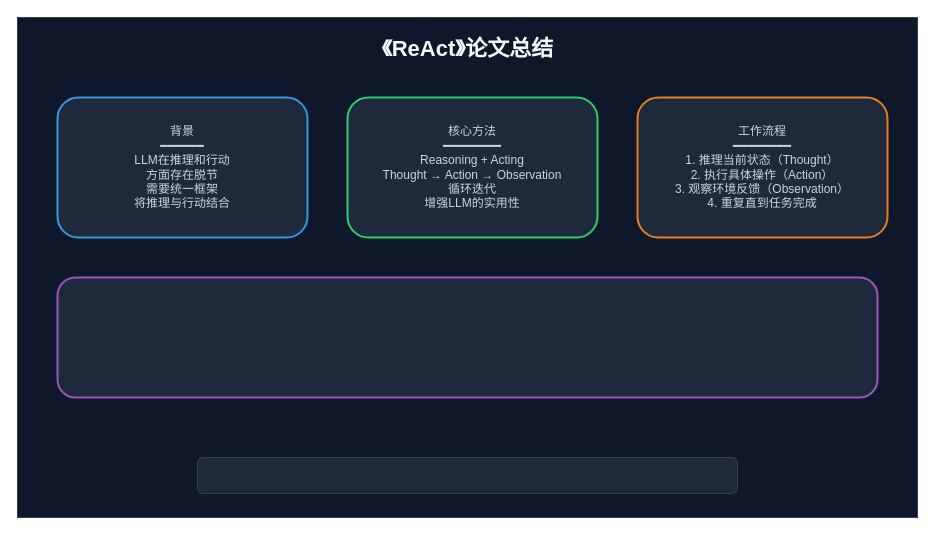
The diagram is 935 pixels wide and 535 high, and some of its shapes have lost their labels. The shapes that lost their labels are listed below. From the top down, each one's centre as x and y in pixels, then its label:
pixel 467 337: 核心价值 ━━━━━━━━ 提升可解释性 减少幻觉 增强交互能力 Agent范式的基础框架
pixel 467 475: ReAct = Reasoning + Acting · 推理与行动的协同 · Agent系统的理论基础
